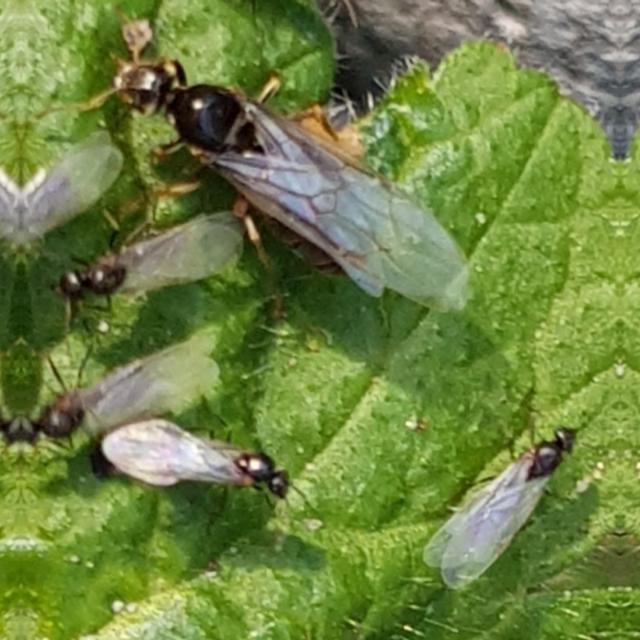Lasius: (418, 401, 618, 579), (20, 314, 228, 446), (36, 200, 228, 318), (88, 421, 306, 499)
